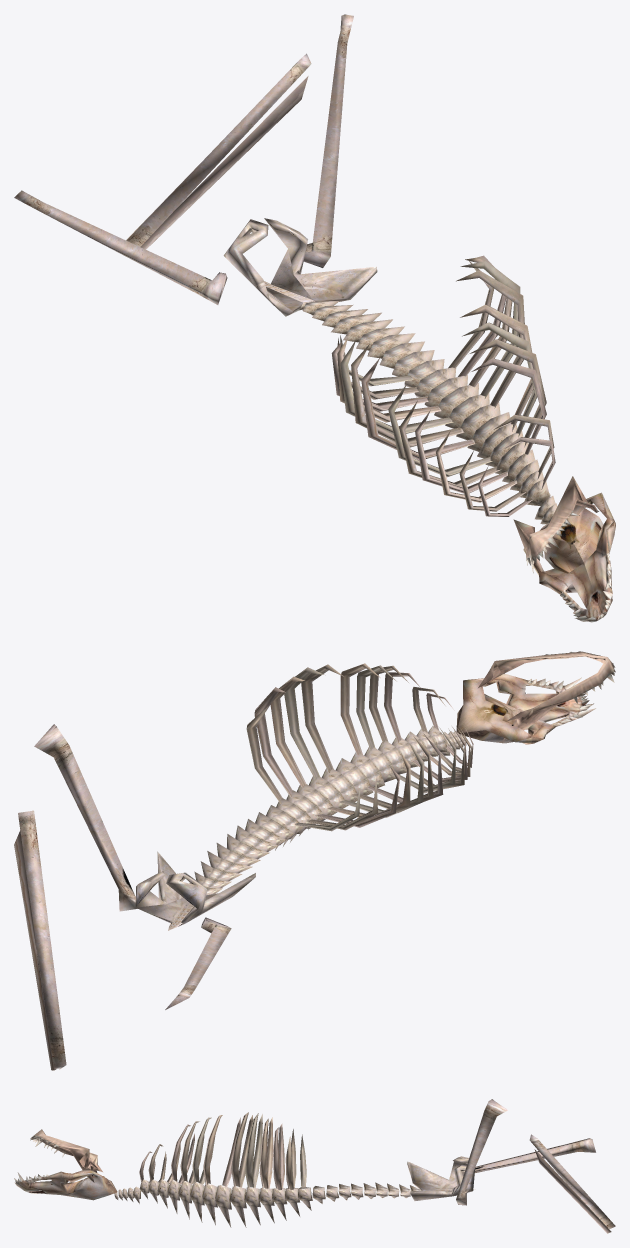
File: poi_all_ancient_skeleton_s01_l1.fbx
3 renders of one model, top to bottom at view 1: azimuth 30°, elevation 25°; view 2: azimuth 150°, elevation 25°; view 3: azimuth 270°, elevation 25°, orthographic. The views are drawn at different scales.
Parts seen in each view (by area): view 1: mesh_node; view 2: mesh_node; view 3: mesh_node.
Boxes of the visible parts, x1,y1,x2,y2 form: mesh_node: (14,14,615,622); mesh_node: (14,651,615,1070); mesh_node: (14,1099,615,1233).
Bounding box in the file's own units: 11.2 × 12.48 × 42.
Materials: 1 (1 with a texture image).
